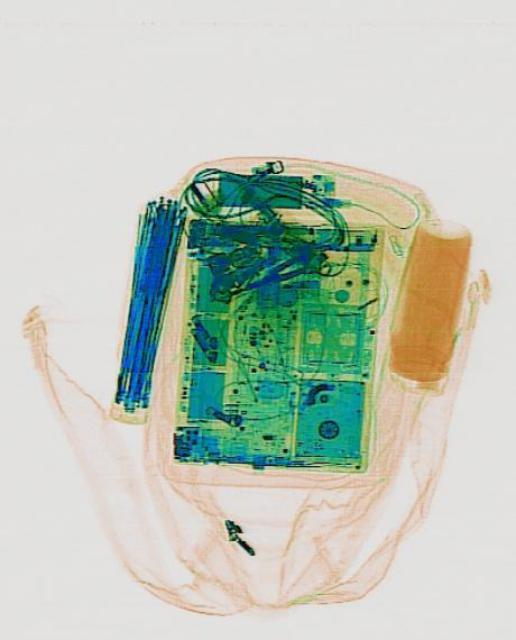Pliers: (244, 248, 308, 294)
